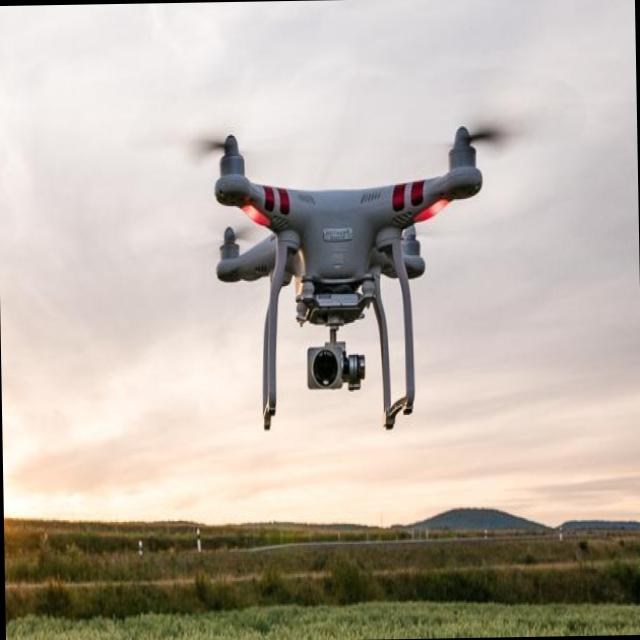drone: (209, 120, 490, 432)
